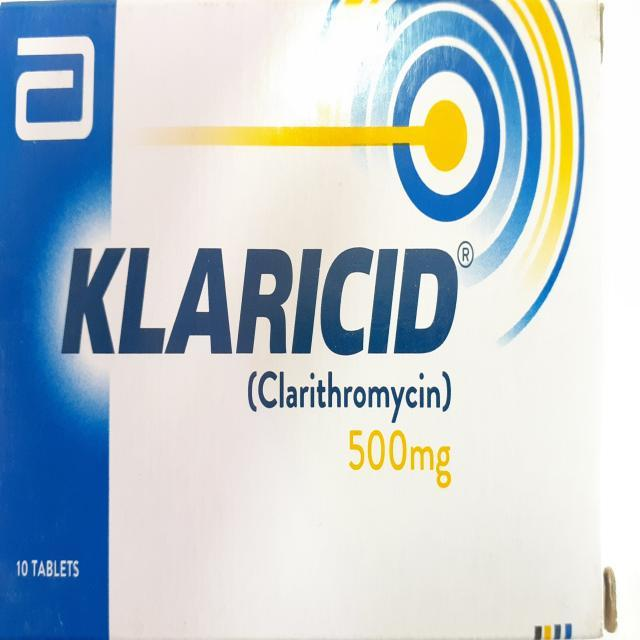drug-name: (54, 242, 460, 354)
